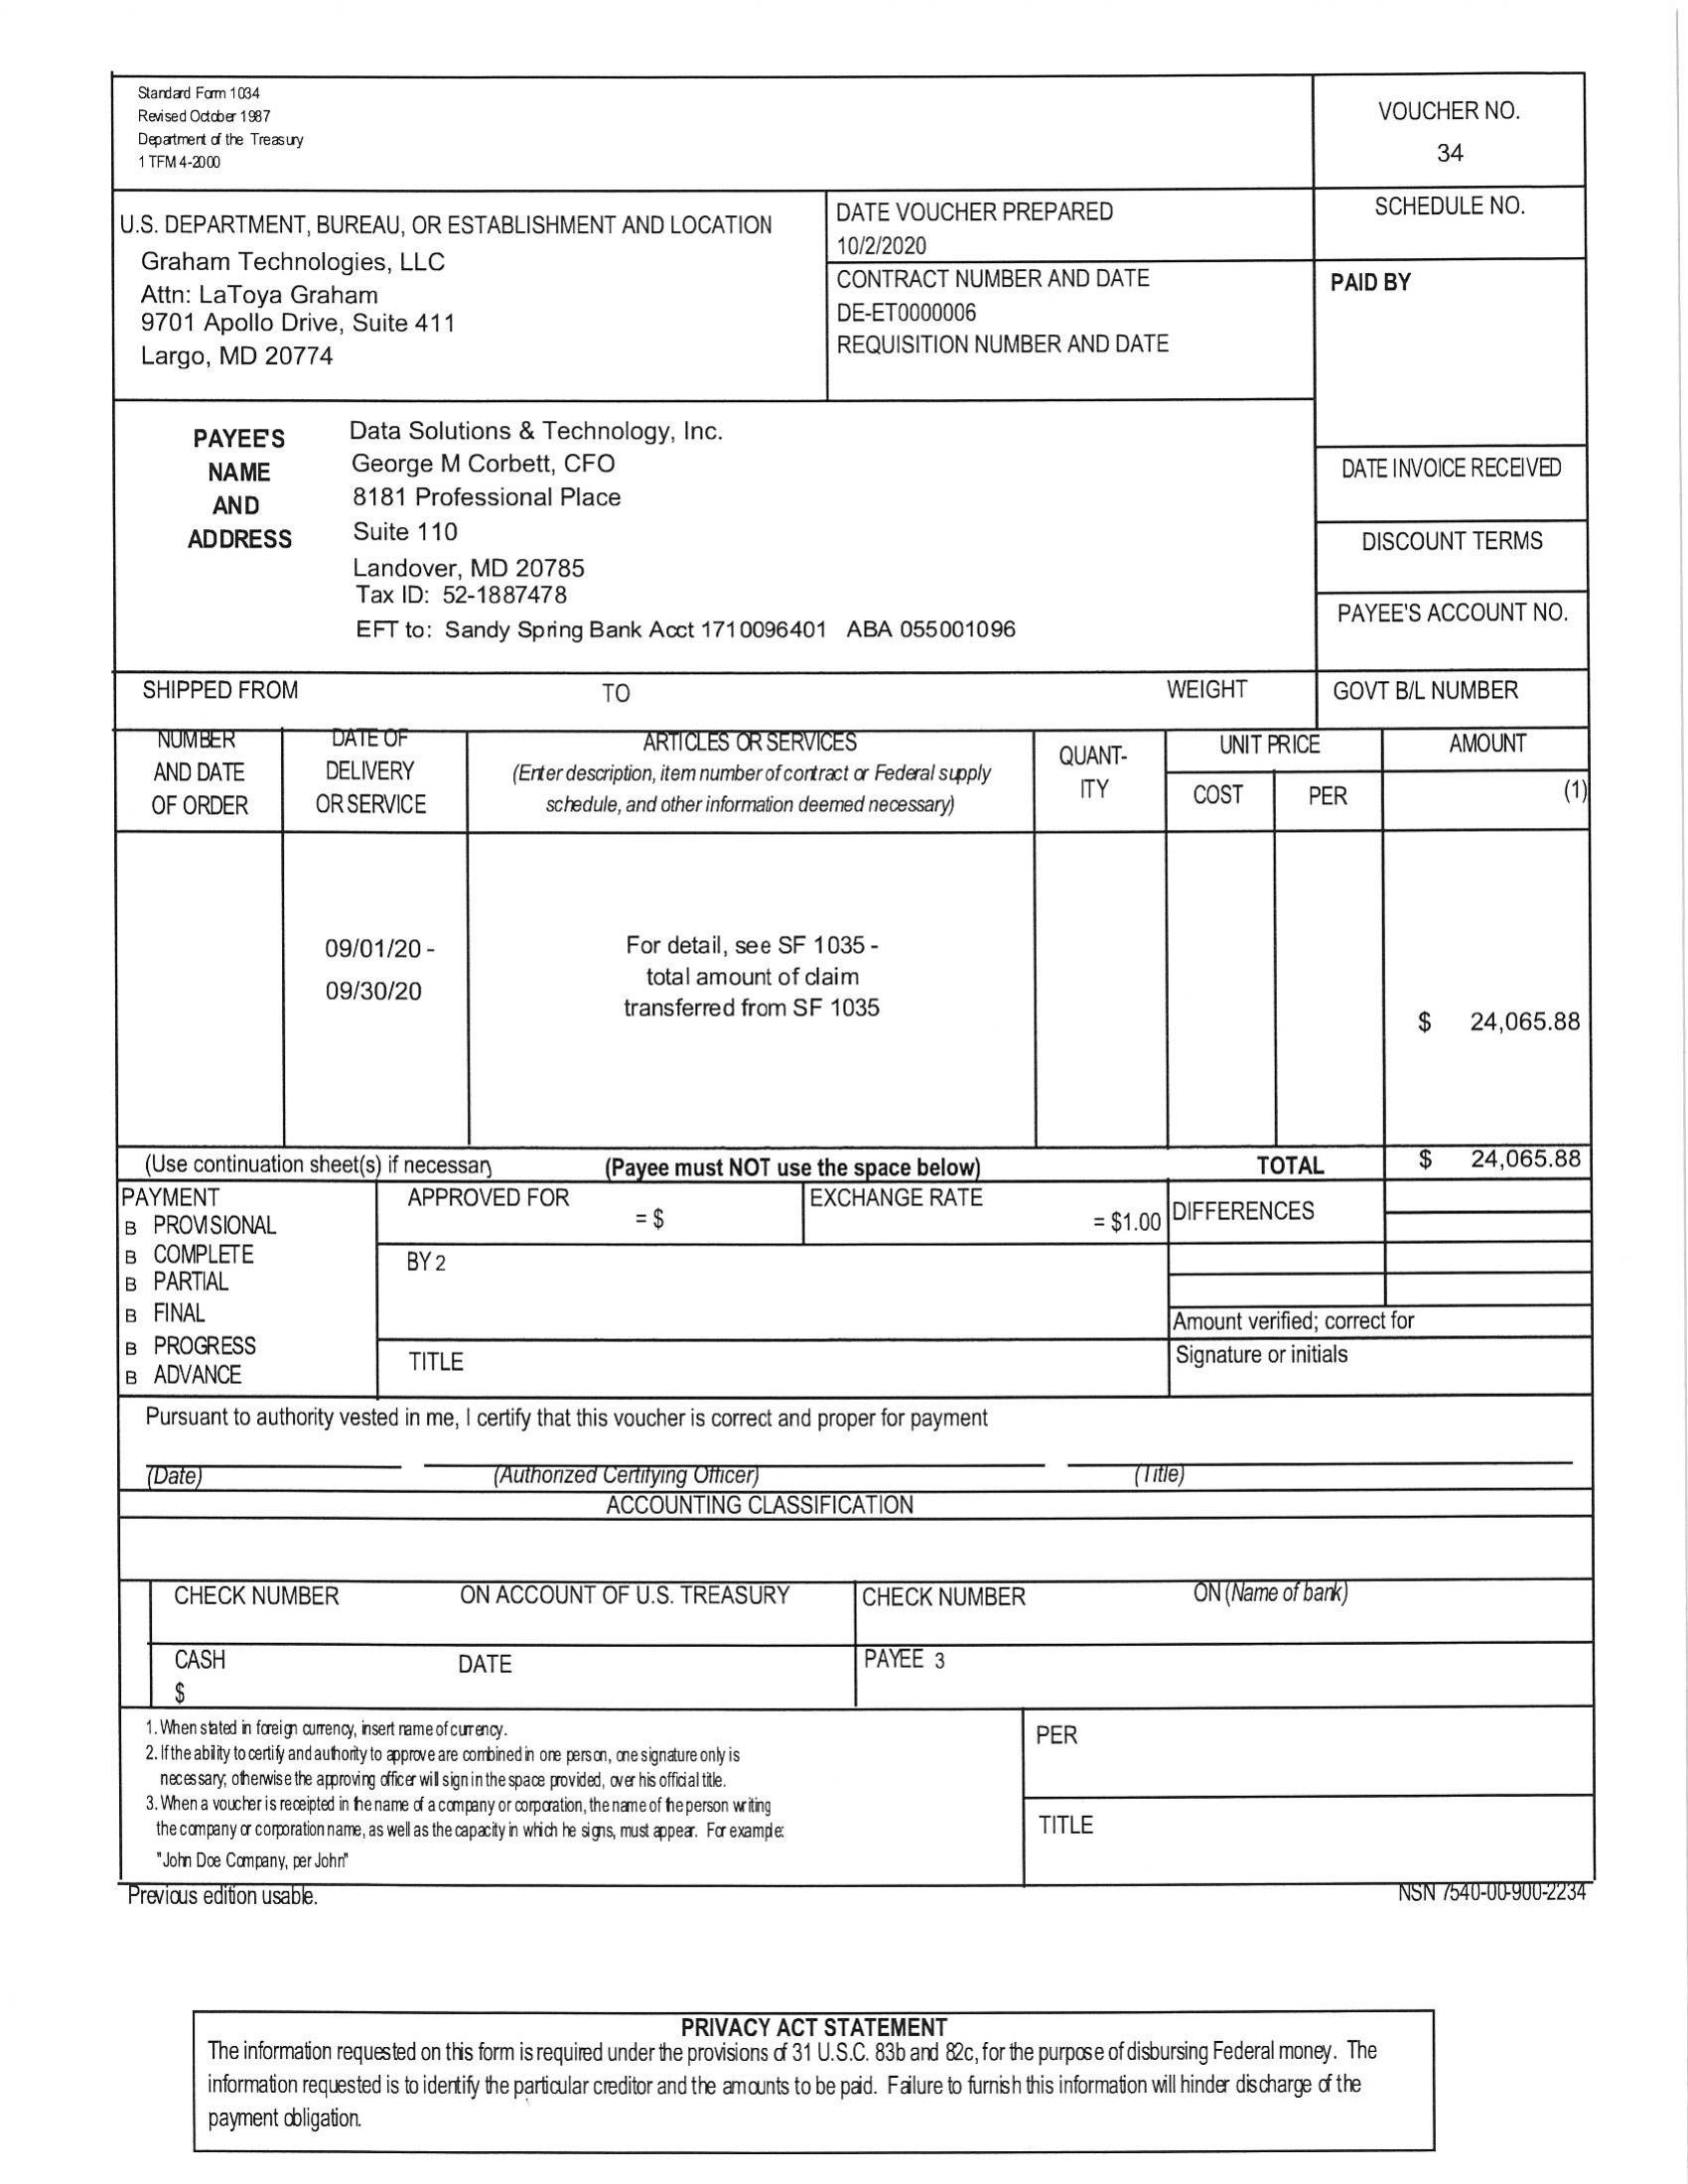table: (99, 716, 1601, 1143)
